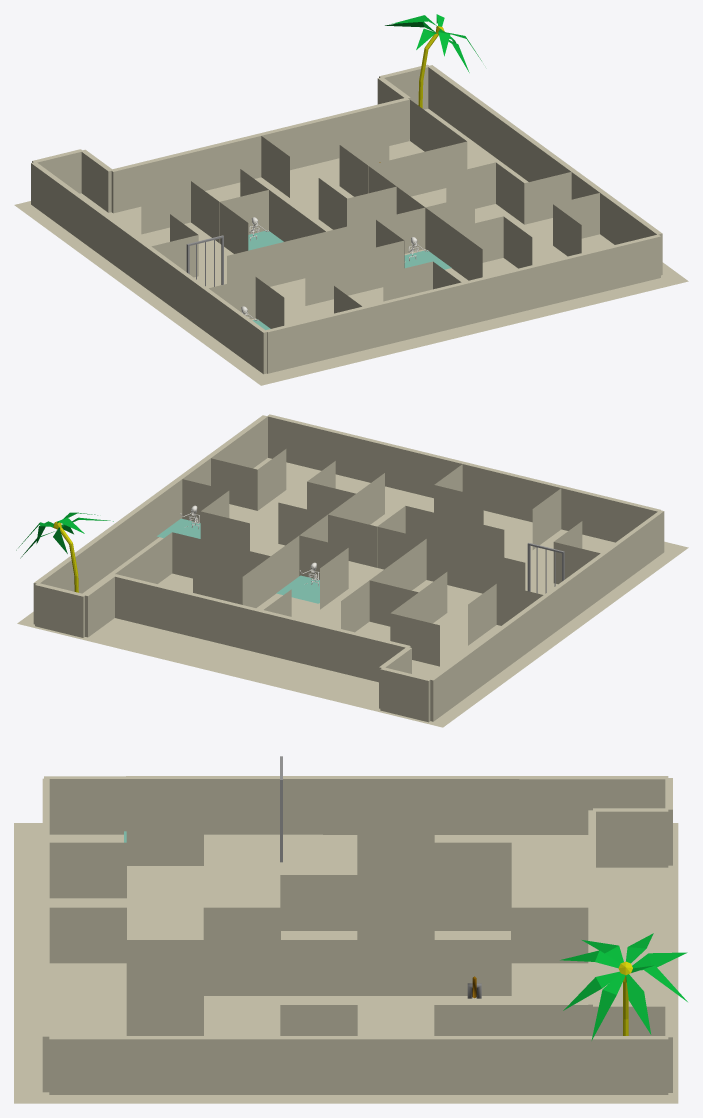
Rendered from labyrinthevide.dae.
3 views of the same model, one above another, from view 1: azimuth 30°, elevation 25°; view 2: azimuth 150°, elevation 25°; view 3: azimuth 270°, elevation 25° (orthographic). The views are drawn at different scales.
Parts seen in each view (by area): view 1: Cube, palmier, solPiege_003, solPiege_001; view 2: Cube, palmier, solPiege, solPiege_004, porte; view 3: Cube, palmier.
Part boxes in pixels (x1,y1,x2,y2): Cube: (14,64,688,385); palmier: (385,14,481,108); solPiege_003: (404,237,451,269); solPiege_001: (248,217,283,250); Cube: (17,414,688,727); palmier: (16,512,113,592); solPiege: (276,562,319,603); solPiege_004: (157,505,200,538); porte: (527,543,564,593); Cube: (14,776,678,1103); palmier: (560,933,687,1040).
Bounding box in the file's own units: 88.93 × 87.77 × 21.35.
